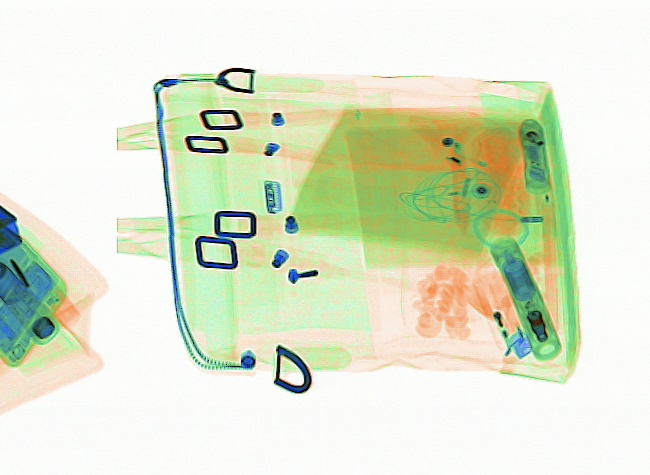lighter: (471, 263, 534, 363)
